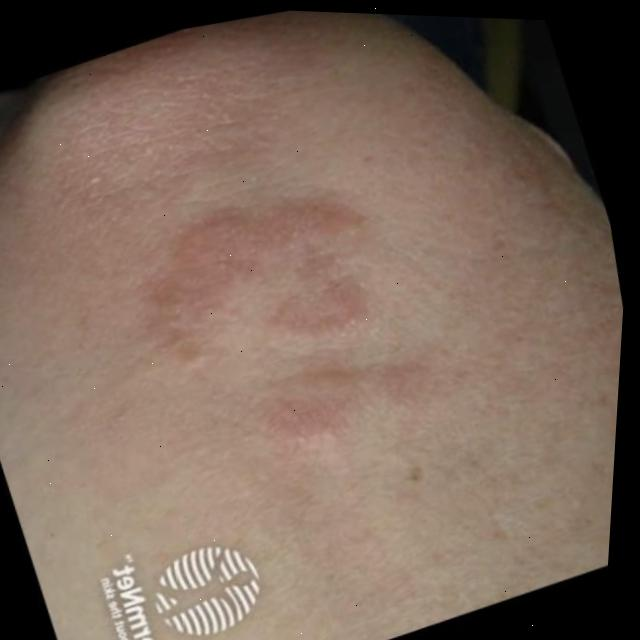Eczema: (162, 182, 450, 471)
